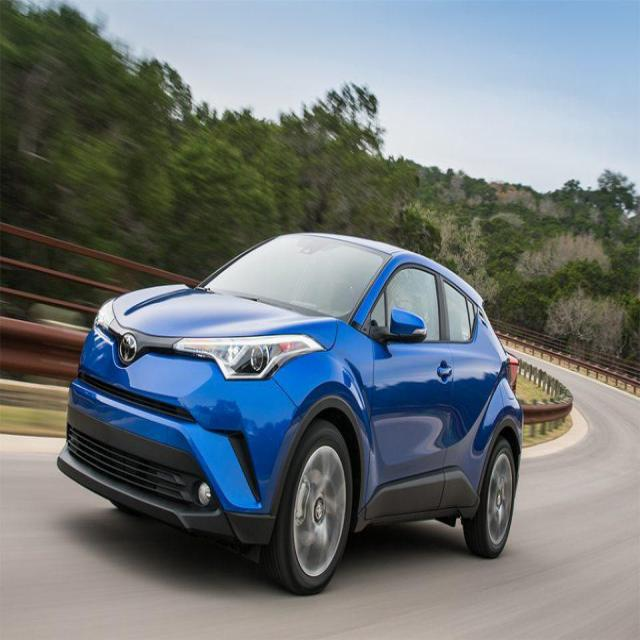back_left_door: (438, 276, 503, 508)
back_left_light: (506, 352, 519, 396)
front_bumper: (56, 318, 307, 544)
front_glass: (195, 234, 392, 324)
front_left_door: (365, 263, 455, 520)
front_left_light: (171, 332, 326, 381)
front_right_light: (96, 296, 114, 331)
hood: (114, 285, 337, 348)
left_mirror: (368, 309, 427, 346)
wheel: (267, 420, 516, 594)
